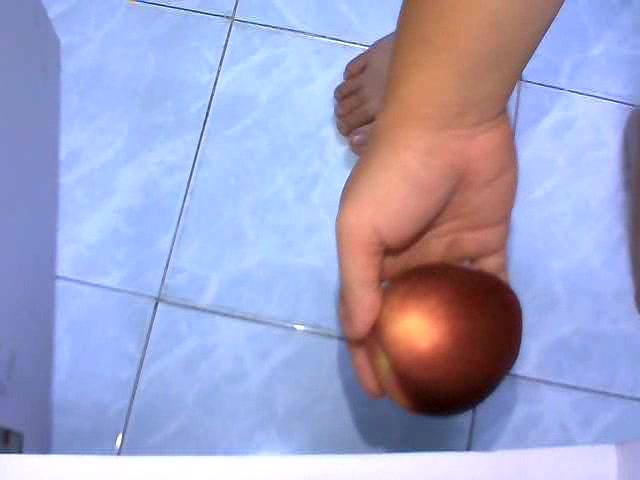apple: (365, 259, 524, 414)
